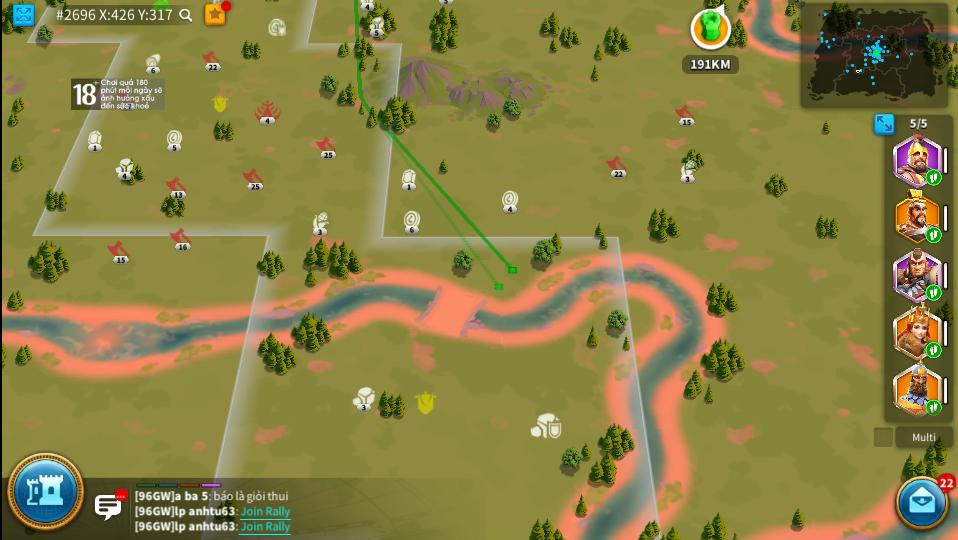gem-z-out: (401, 169, 416, 189), (88, 132, 102, 150)
march_marching: (925, 228, 942, 242), (926, 170, 940, 185), (927, 400, 941, 415), (926, 285, 940, 299), (928, 343, 940, 357)
